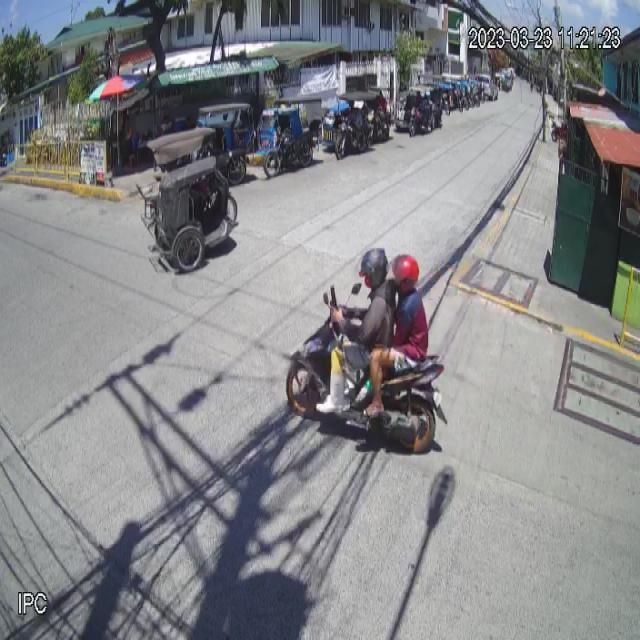Motorcycle: (284, 282, 448, 454)
Tricycle: (141, 129, 235, 275)
